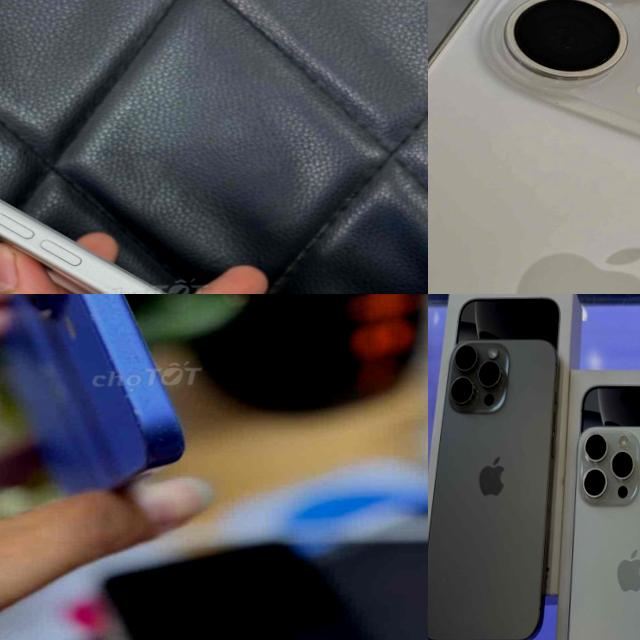gen_15: (428, 0, 640, 294)
gen_16: (5, 294, 183, 494), (560, 419, 640, 640)
gen_17: (0, 199, 169, 294)
